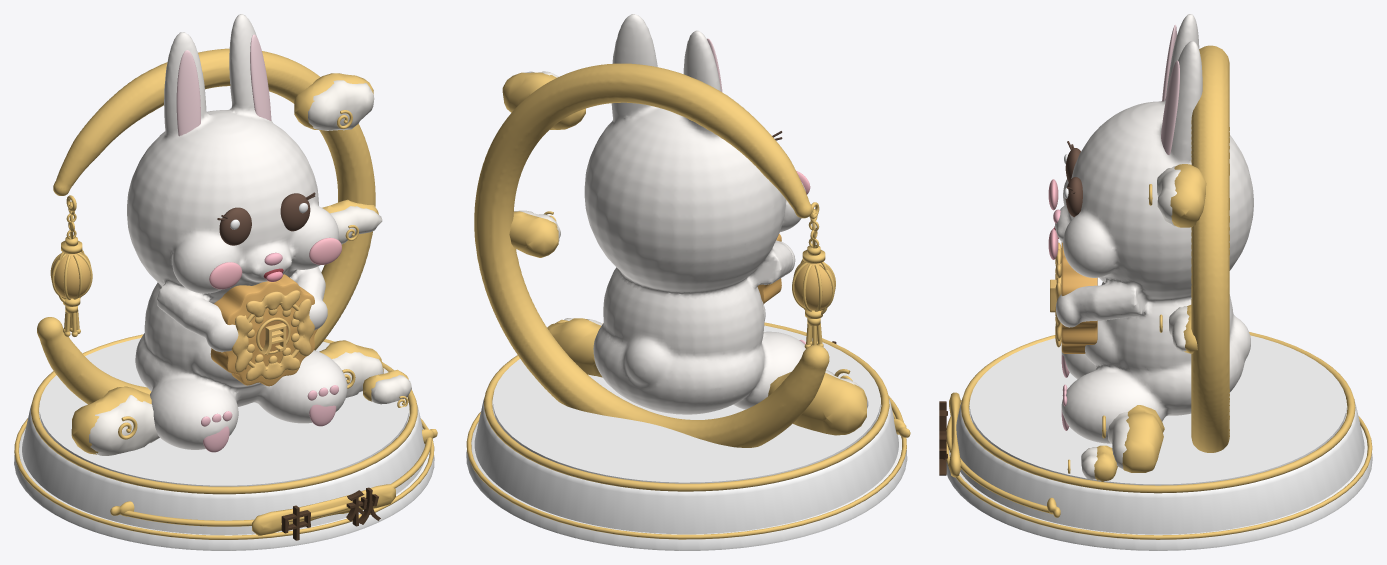
File: yutu_v5.glb
3 renders of one model, left to right at view 1: azimuth 30°, elevation 25°; view 2: azimuth 150°, elevation 25°; view 3: azimuth 270°, elevation 25°, orthographic. The views are drawn at different scales.
Visible parts, largest first — view 1: 玉兔主体, 深色桌面, 月环, 底座, 底线脚, 底座金箍, 月饼, 心形花瓣环, 左坐地云_白身, 底金线, 右上贴环云_白身, 左坐地云_金边 (+17 smaller); view 2: 玉兔主体, 月环, 深色桌面, 底座, 底线脚, 底座金箍, 左坐地云_金边, 底金线, 右坐地云_金边, 右中拖尾云_金边, 右上贴环云_金边, 灯肚; view 3: 玉兔主体, 深色桌面, 底座, 月环, 底线脚, 底座金箍, 底金线, 右坐地云_金边, 右上贴环云_金边, 月饼, 右耳内耳, 前金绶带 (+7 smaller).
Boxes of the visible parts, x1=… form: 玉兔主体: x1=127, y1=14, x2=347, y2=449; 深色桌面: x1=39, y1=338, x2=409, y2=486; 月环: x1=37, y1=48, x2=375, y2=404; 底座: x1=22, y1=404, x2=425, y2=534; 底线脚: x1=14, y1=428, x2=434, y2=550; 底座金箍: x1=31, y1=334, x2=417, y2=494; 月饼: x1=210, y1=274, x2=317, y2=386; 心形花瓣环: x1=232, y1=290, x2=314, y2=381; 左坐地云_白身: x1=89, y1=395, x2=159, y2=455; 底金线: x1=14, y1=418, x2=434, y2=539; 右上贴环云_白身: x1=308, y1=80, x2=374, y2=130; 左坐地云_金边: x1=71, y1=386, x2=151, y2=454; 玉兔主体: x1=584, y1=14, x2=805, y2=414; 月环: x1=474, y1=63, x2=829, y2=447; 深色桌面: x1=493, y1=325, x2=880, y2=483; 底座: x1=474, y1=397, x2=898, y2=534; 底线脚: x1=466, y1=422, x2=907, y2=550; 底座金箍: x1=484, y1=322, x2=889, y2=491; 左坐地云_金边: x1=768, y1=372, x2=866, y2=435; 底金线: x1=466, y1=412, x2=906, y2=539; 右坐地云_金边: x1=547, y1=318, x2=602, y2=377; 右中拖尾云_金边: x1=509, y1=211, x2=558, y2=257; 右上贴环云_金边: x1=502, y1=72, x2=585, y2=129; 灯肚: x1=793, y1=262, x2=835, y2=310; 玉兔主体: x1=1055, y1=14, x2=1253, y2=443; 深色桌面: x1=969, y1=335, x2=1346, y2=485; 底座: x1=956, y1=400, x2=1364, y2=534; 月环: x1=1191, y1=45, x2=1229, y2=452; 底线脚: x1=946, y1=426, x2=1372, y2=550; 底座金箍: x1=961, y1=332, x2=1355, y2=493; 底金线: x1=946, y1=416, x2=1372, y2=539; 右坐地云_金边: x1=1122, y1=405, x2=1164, y2=472; 右上贴环云_金边: x1=1170, y1=164, x2=1206, y2=227; 月饼: x1=1061, y1=242, x2=1097, y2=353; 右耳内耳: x1=1161, y1=60, x2=1179, y2=154; 前金绶带: x1=946, y1=400, x2=1052, y2=514.
Bounding box in the file's own units: 73.69 × 82.68 × 74.46.
